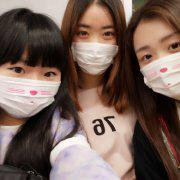OK: (1, 57, 63, 119), (69, 17, 127, 75), (136, 30, 180, 104)
